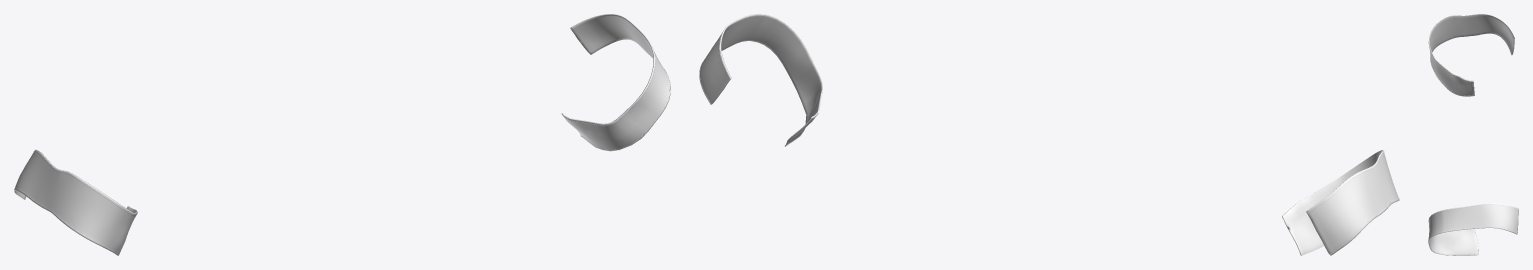
File: Jac_Flic_Lim.glb
The picture shows the model from 3 angles, left to right: view 1: azimuth 30°, elevation 25°; view 2: azimuth 150°, elevation 25°; view 3: azimuth 270°, elevation 25°; orthographic projection. The views are drawn at different scales.
Parts seen in each view (by area): view 1: Jac_Flic_Lim.001, Jac_Rope_Flic_Lim.001; view 2: Jac_Flic_Lim.001, Jac_Rope_Flic_Lim.001; view 3: Jac_Flic_Lim.001, Jac_Rope_Flic_Lim.001.
Part boxes in pixels (left/top/right/bottom): Jac_Flic_Lim.001: left=14, top=14, right=670, bottom=255; Jac_Rope_Flic_Lim.001: left=14, top=45, right=670, bottom=255; Jac_Flic_Lim.001: left=699, top=14, right=1399, bottom=255; Jac_Rope_Flic_Lim.001: left=699, top=27, right=1399, bottom=254; Jac_Flic_Lim.001: left=1428, top=14, right=1518, bottom=255; Jac_Rope_Flic_Lim.001: left=1428, top=41, right=1518, bottom=239.
Bounding box in the file's own units: 1.13 × 0.1928 × 0.2201.
2 materials, 2 textured.
